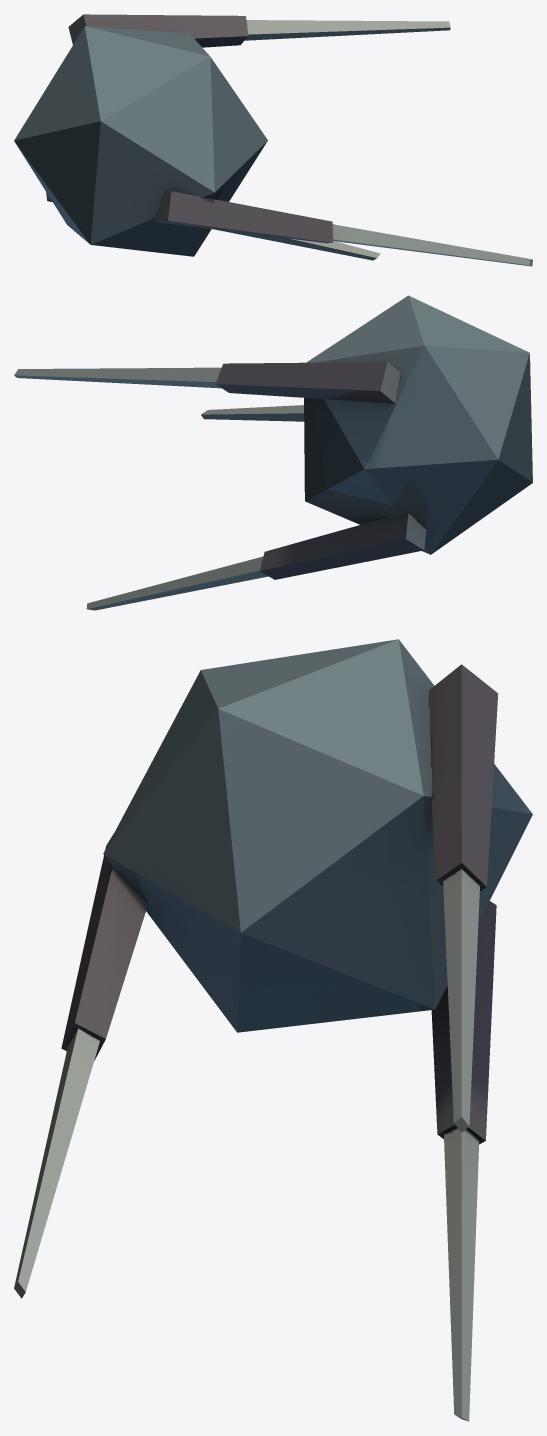
The picture shows the model from 3 angles, top to bottom: view 1: azimuth 30°, elevation 25°; view 2: azimuth 150°, elevation 25°; view 3: azimuth 270°, elevation 25°; orthographic projection. The views are drawn at different scales.
Parts seen in each view (by area): view 1: satellite; view 2: satellite; view 3: satellite.
Boxes of the visible parts, x1,y1,x2,y2 form: satellite: [14, 14, 532, 266]; satellite: [14, 295, 532, 610]; satellite: [14, 639, 532, 1421].
Bounding box in the file's own units: 1.89 × 1.28 × 1.13.
Materials: 1 (1 with a texture image).
